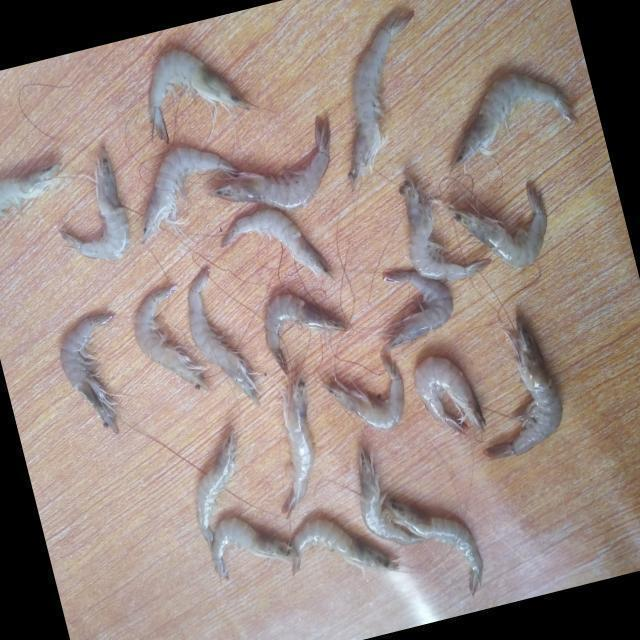shrimp: (452, 73, 578, 170), (348, 10, 414, 189), (210, 116, 330, 209), (484, 318, 563, 459), (188, 267, 260, 407), (400, 171, 491, 280), (383, 500, 483, 596), (141, 146, 237, 243), (148, 49, 249, 141), (449, 183, 547, 266), (58, 146, 129, 260), (134, 285, 209, 391), (221, 208, 332, 277), (59, 314, 118, 434), (358, 444, 428, 545), (264, 294, 347, 374), (322, 355, 404, 431), (290, 519, 398, 575), (383, 271, 453, 351), (415, 357, 486, 434), (211, 518, 290, 580), (281, 371, 314, 518), (196, 431, 236, 547), (0, 163, 60, 214)
